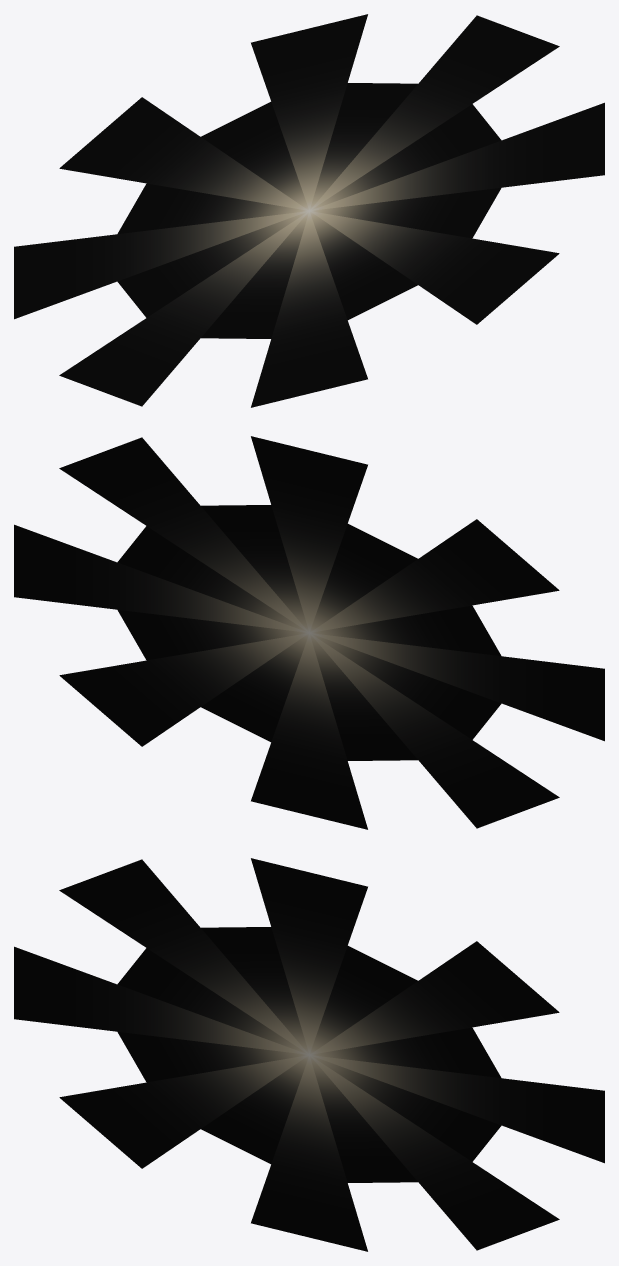
The model's file is whiteSunGlowDeformer.fbx.
3 renders of one model, top to bottom at view 1: azimuth 30°, elevation 25°; view 2: azimuth 150°, elevation 25°; view 3: azimuth 330°, elevation 25°, orthographic.
Visible parts, largest first — view 1: whiteSunGlow; view 2: whiteSunGlow; view 3: whiteSunGlow.
Boxes of the visible parts, box(x1,y1,x2,y2) form: whiteSunGlow: box(14, 14, 604, 407); whiteSunGlow: box(14, 436, 604, 829); whiteSunGlow: box(14, 858, 604, 1251).
Size of the model in its own units: 889 by 525 by 0.
1 material, 1 textured.
